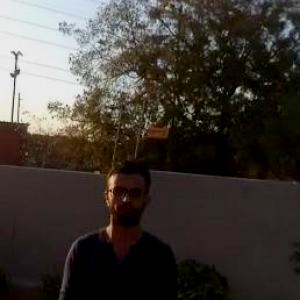follow: (43, 150, 185, 299)
